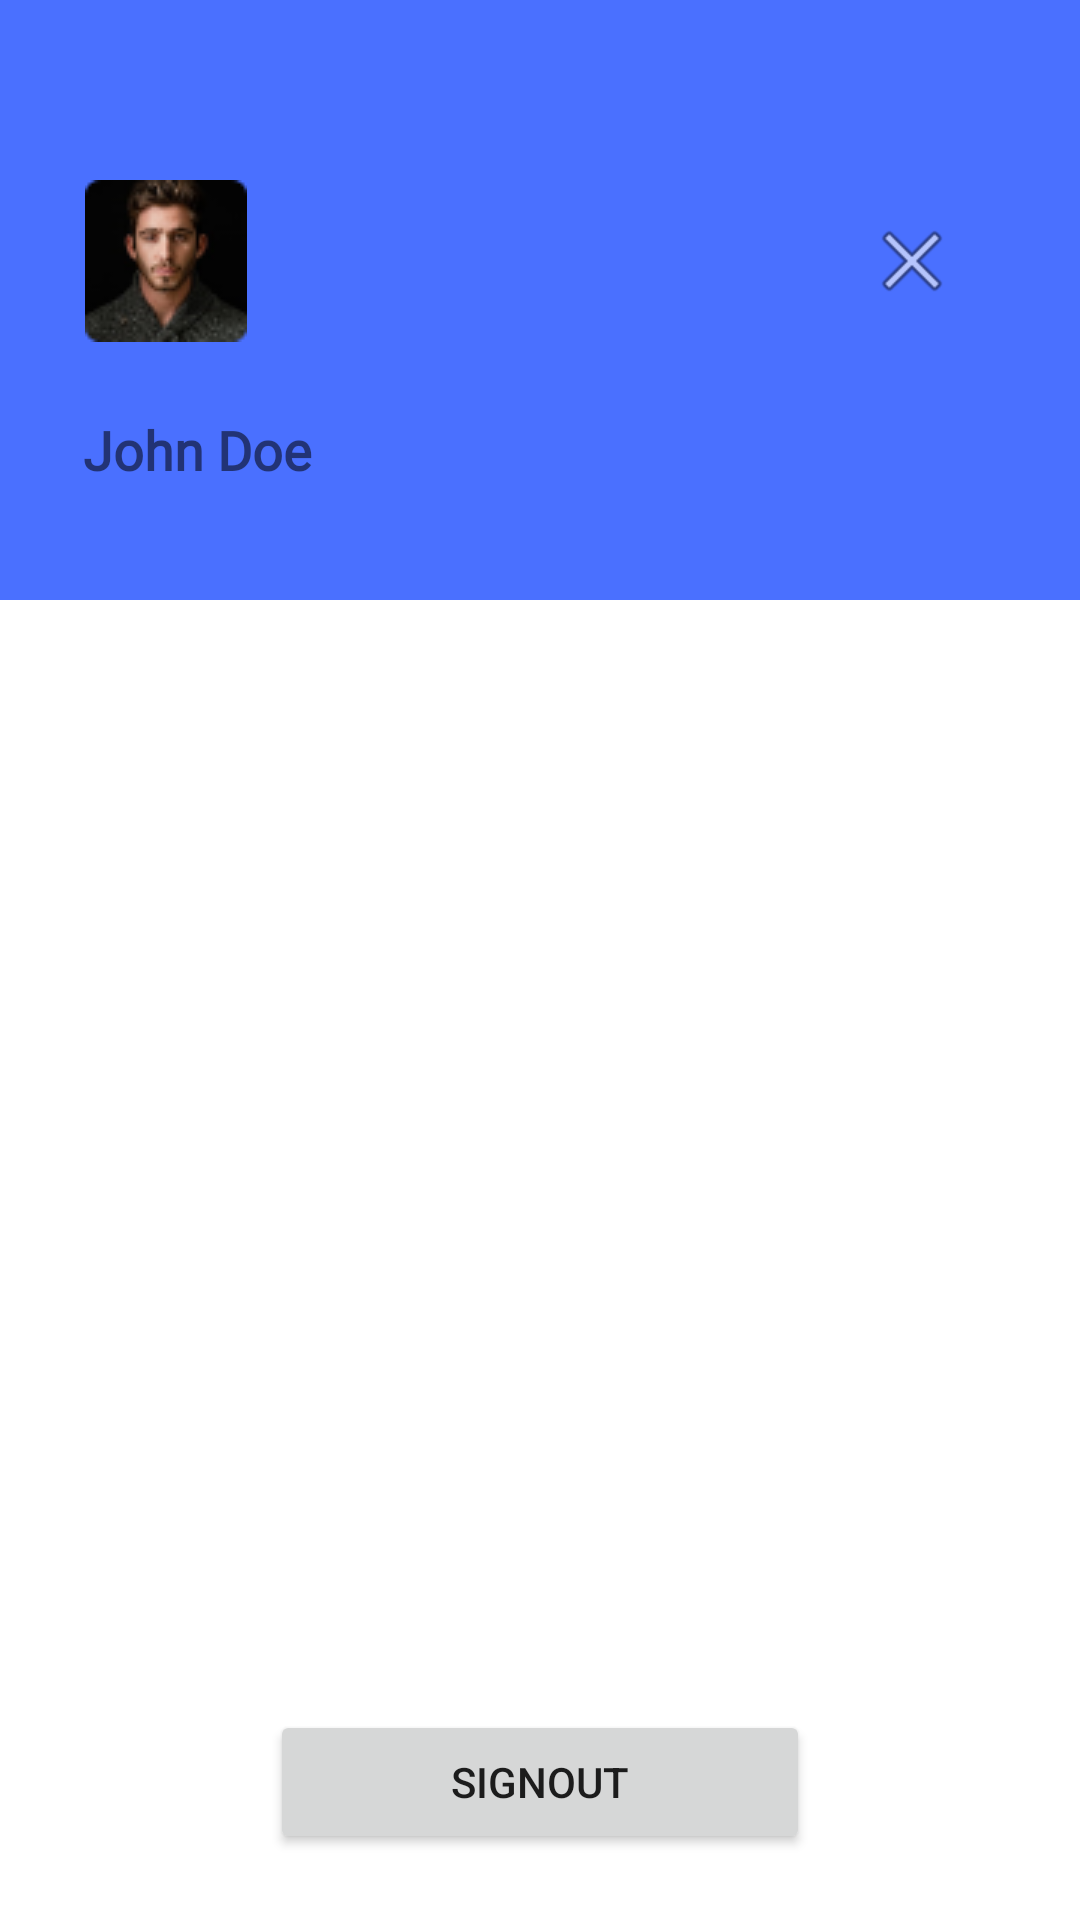

Point at icon controls on the screen. Image size 1080×1920, points as (x,y).
close clear cancel: (912,261)
navheaderuser: (166,261)
